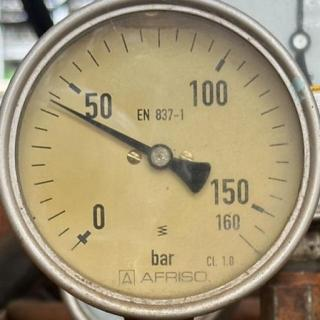gauge: (0, 0, 320, 320), (61, 201, 112, 259), (210, 210, 266, 260), (146, 142, 174, 170), (46, 96, 61, 108)
